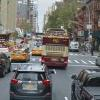Bus: (37, 24, 75, 74)
